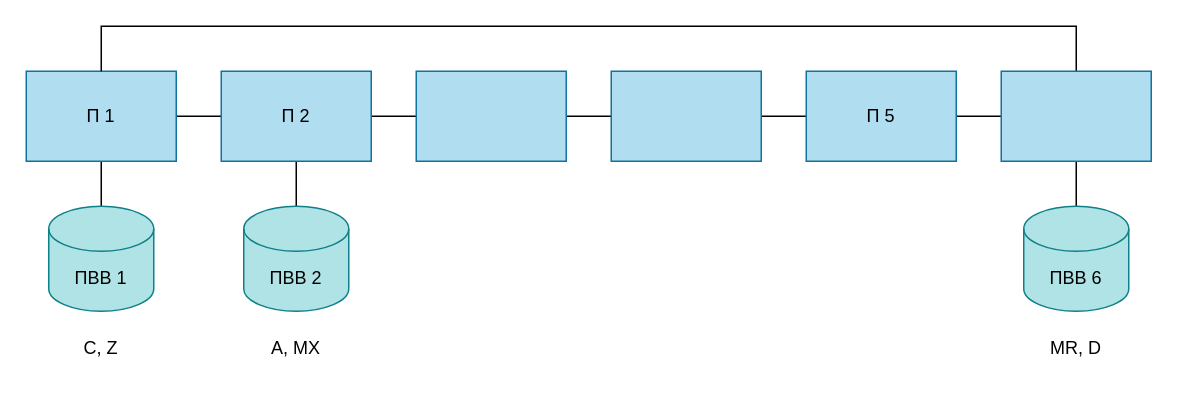
The diagram is 1178 pixels wide and 398 high, and some of its shapes have lost their labels. Each missing label, with the box of its shape:
П 3: (415, 70, 566, 161)
П 4: (610, 70, 761, 161)
П 6: (1000, 70, 1151, 161)
